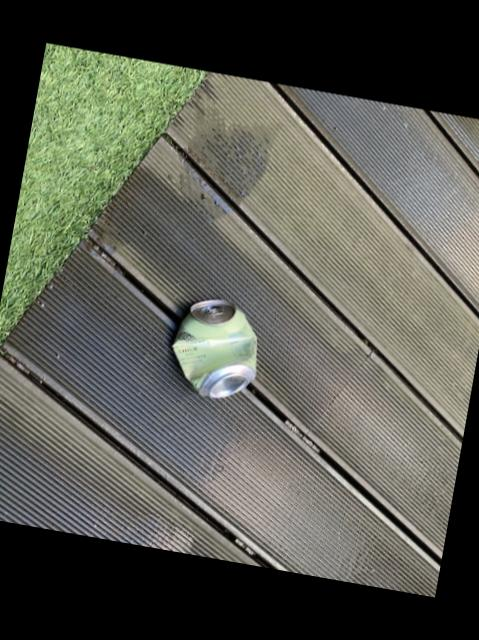metal: (170, 299, 255, 398)
